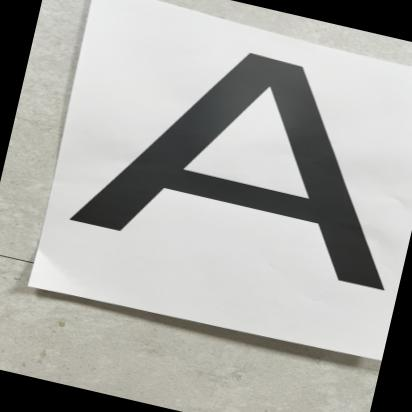seat: (47, 9, 412, 363)
